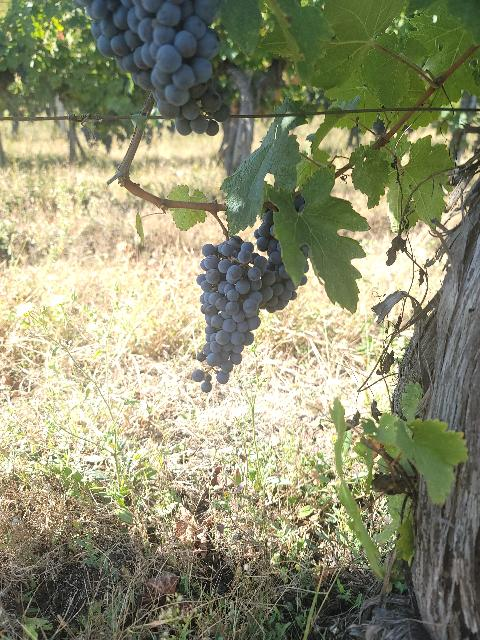grapes: (72, 0, 229, 134), (192, 235, 268, 392), (258, 210, 296, 311)
